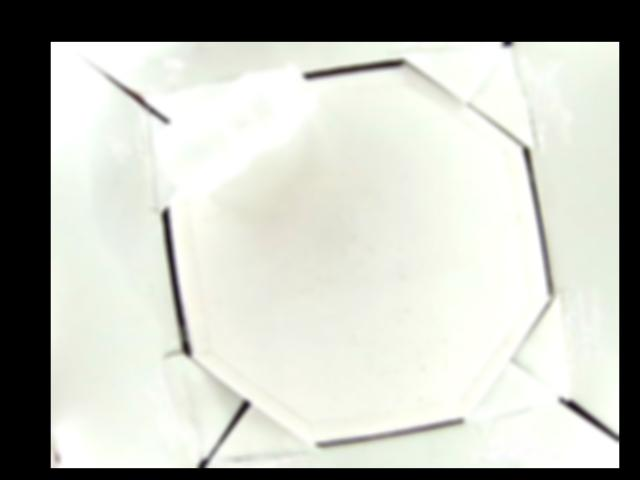Bottle: (152, 63, 319, 202)
